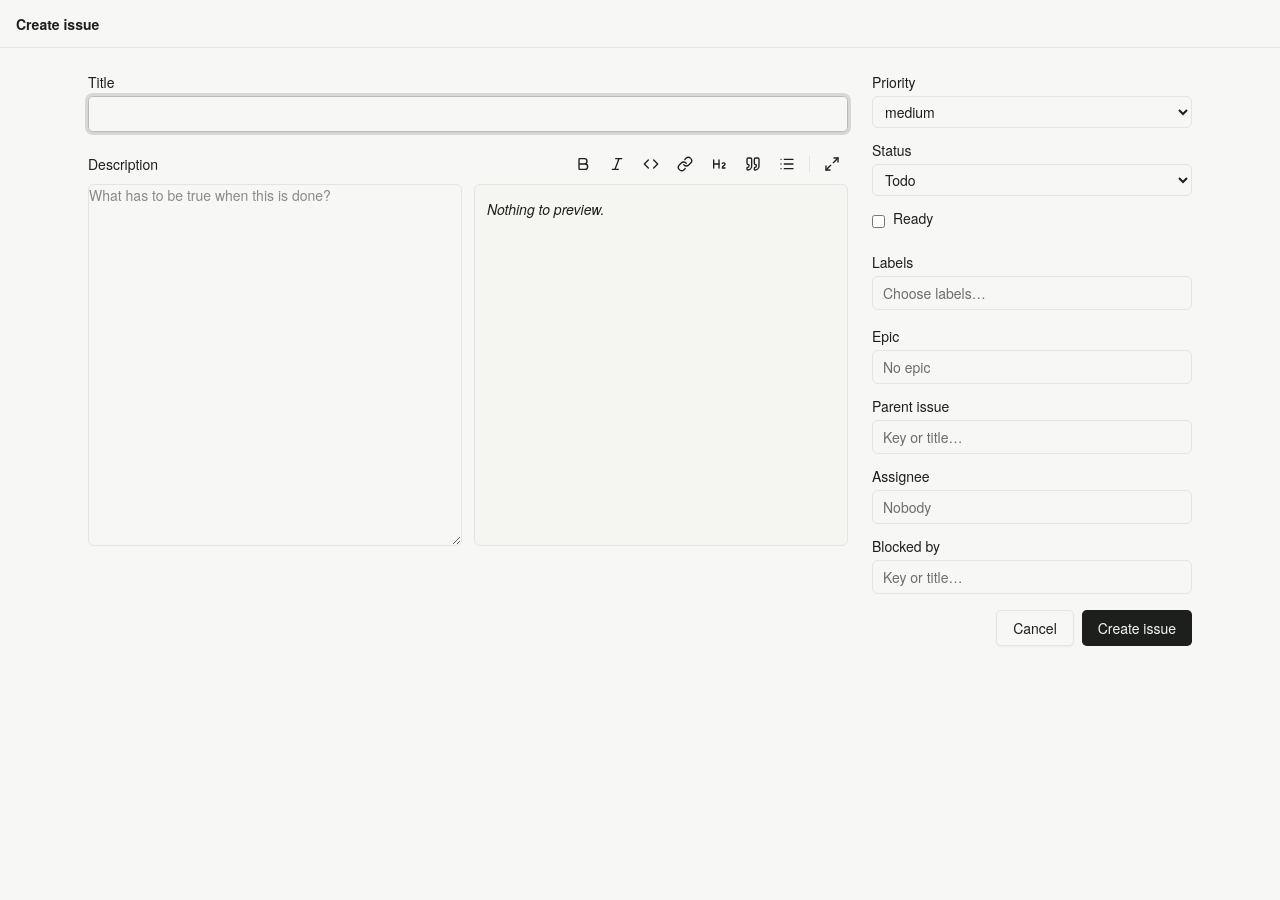
Test case: says on the row which epics are closed, and warns once one is chosen
Click the dropdown labelled "Epic". click: click(1032, 367)
box: [879,355,1185,379]
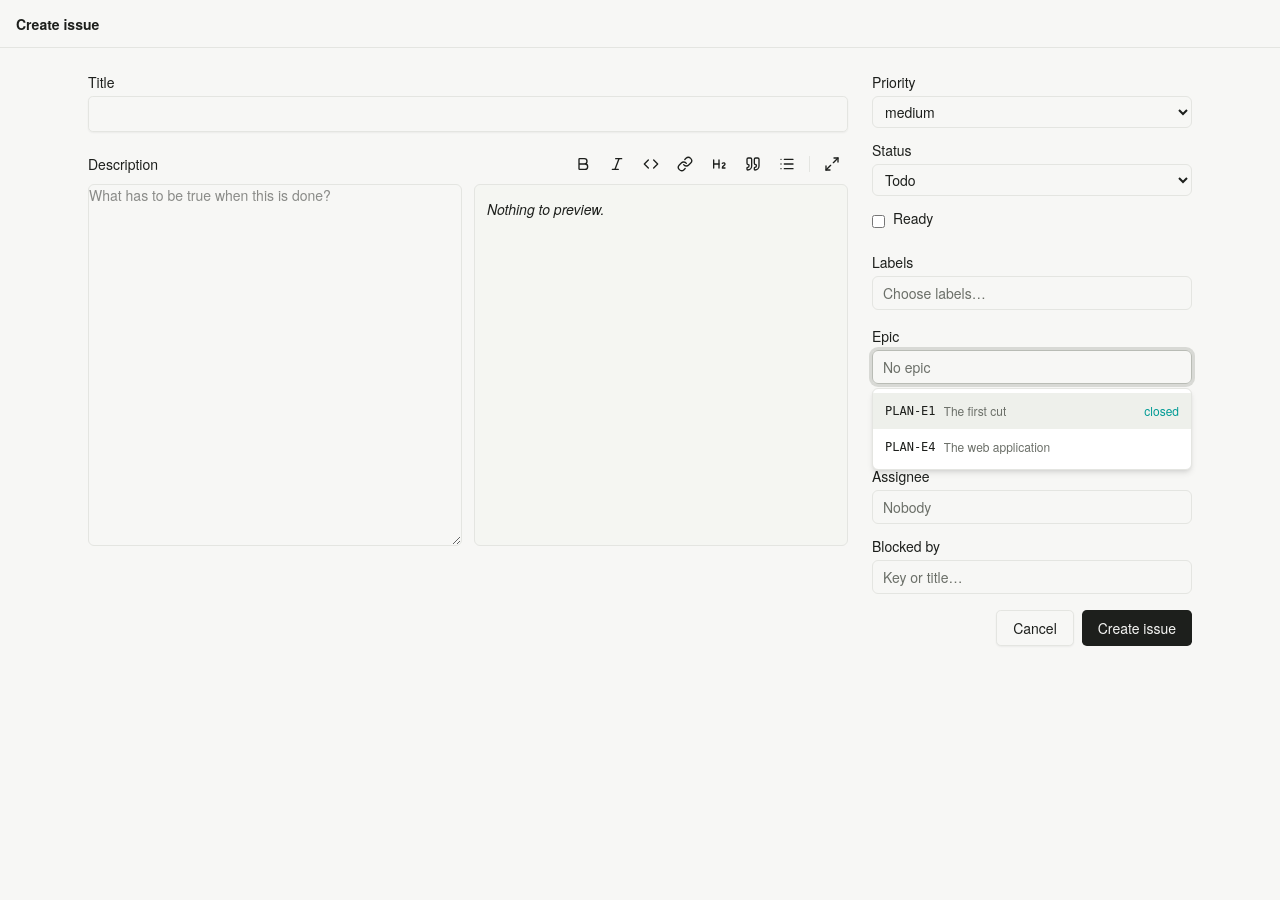
Expected: the option "PLAN-E1 The first cut closed" is shown
Click the option "PLAN-E1 The first cut closed". click: click(910, 411)
box: [873,393,1191,429]
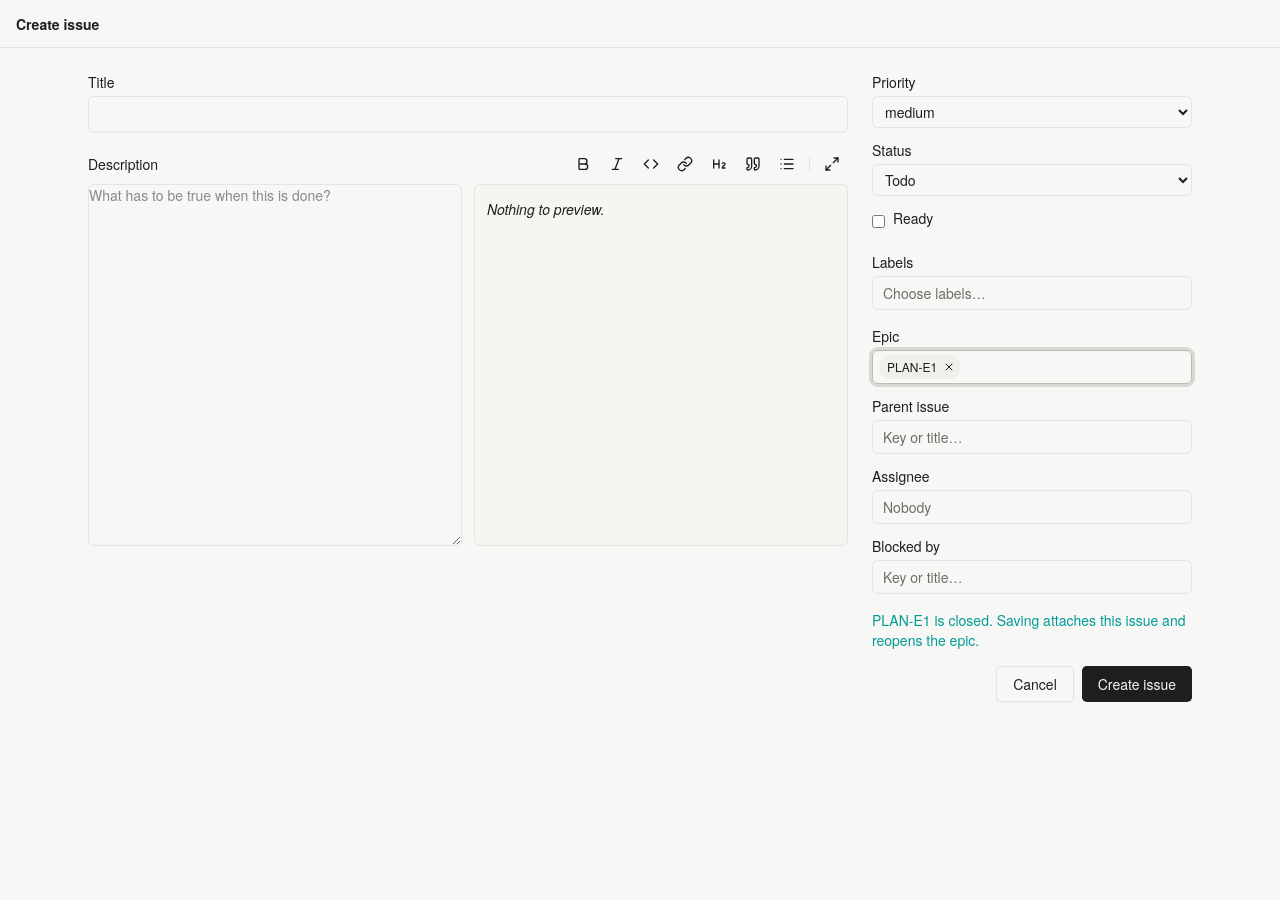
Expected: the message reads "PLAN-E1 is closed. Saving attaches this issue and reopens the epic.", [872,610,1186,650]
